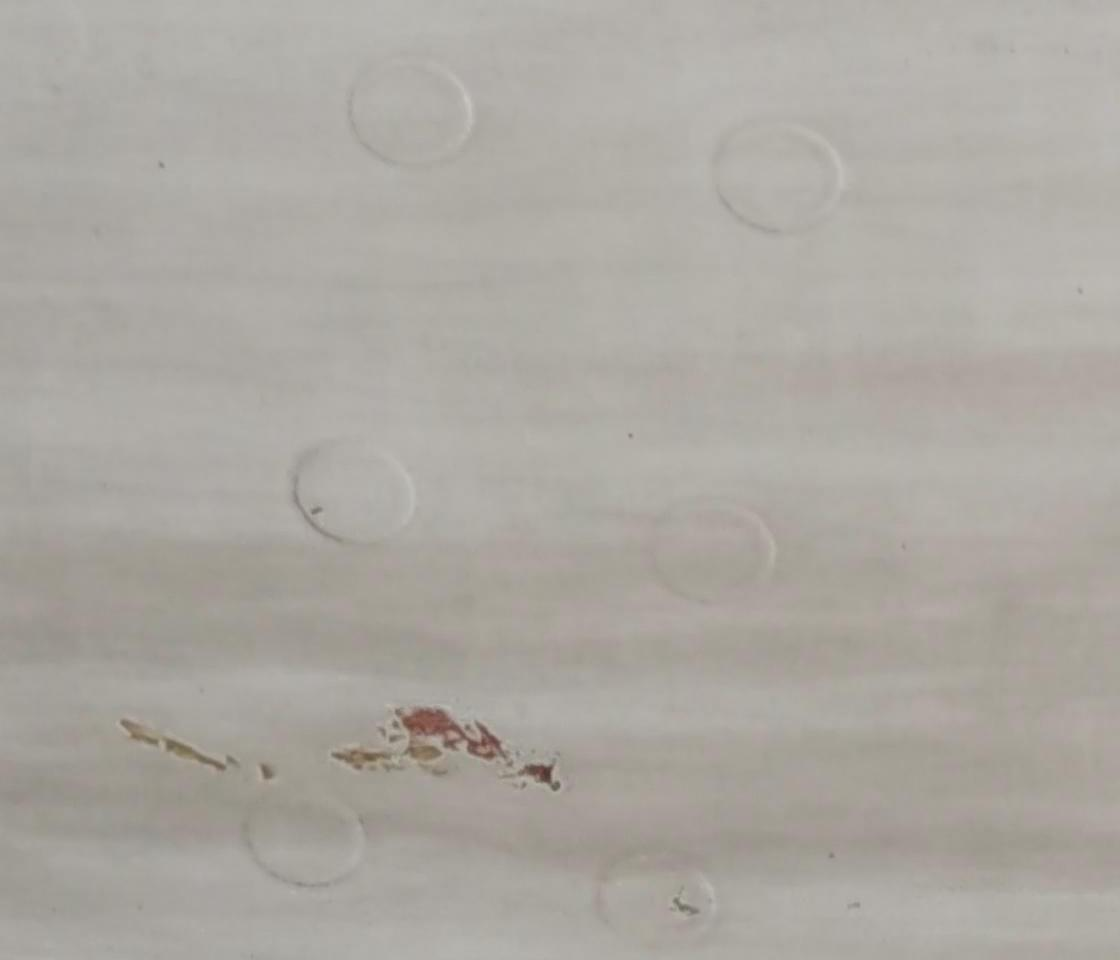paint_peel: (317, 694, 573, 806)
